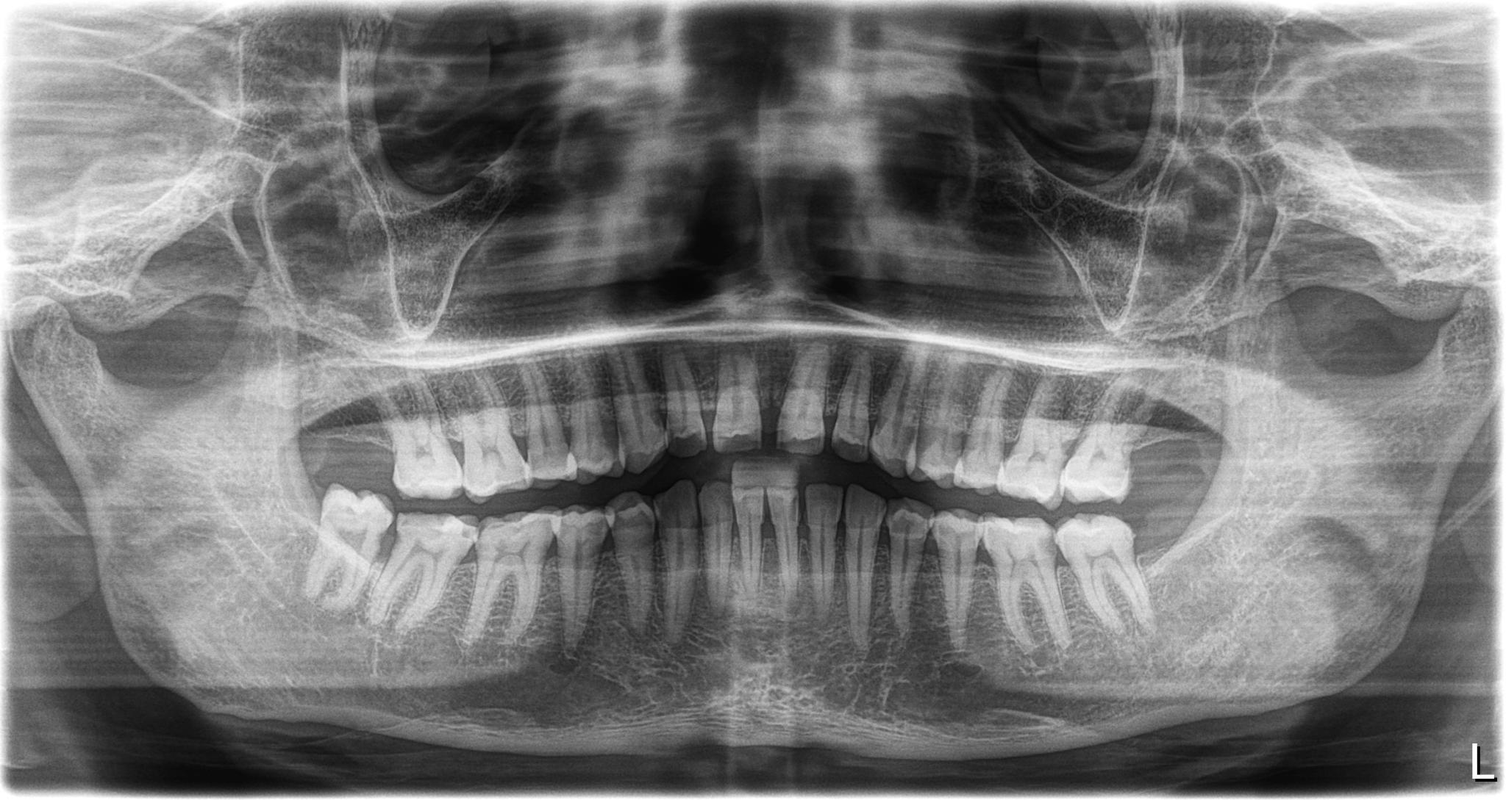Missing Tooth: (298, 393, 390, 482), (1136, 514, 1210, 604), (1138, 404, 1214, 478)
